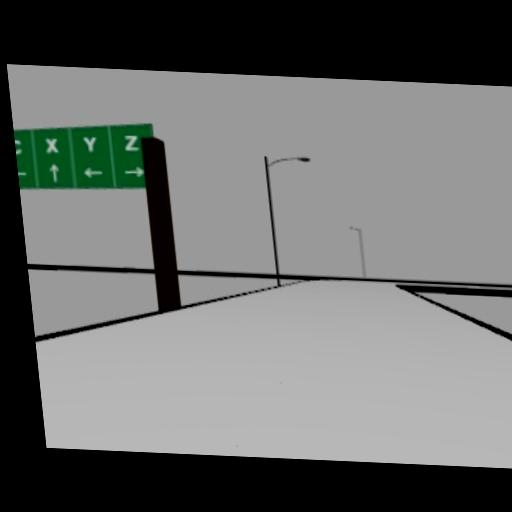C: (14, 138, 22, 153)
Left: (82, 166, 103, 178), (17, 168, 26, 178)
Right: (123, 165, 145, 177)
Straight: (48, 162, 60, 183)
X: (44, 137, 58, 152)
Y: (81, 136, 98, 153)
Z: (123, 134, 140, 151)
